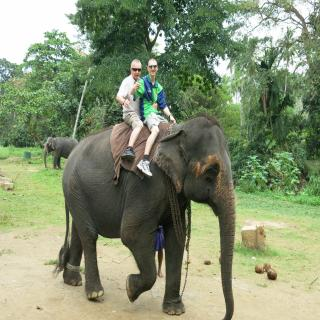Elephant: (56, 112, 246, 320)
